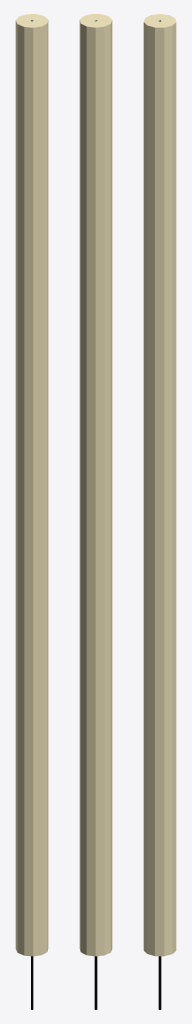
The model's file is tile_531.glb.
3 views of the same model, side by side, from view 1: azimuth 90°, elevation 25°; view 2: azimuth 150°, elevation 25°; view 3: azimuth 330°, elevation 25° (orthographic).
Bounding box in the file's own units: 0.2468 × 8.25 × 0.2468.
